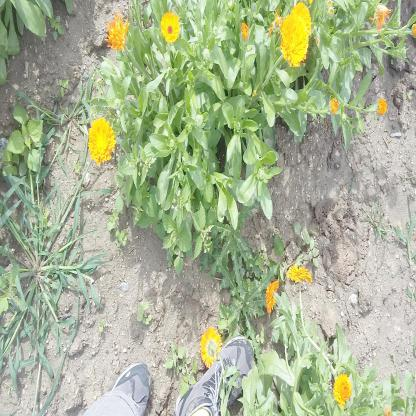marigold: (282, 15, 307, 64), (89, 119, 113, 161), (107, 12, 127, 47), (334, 374, 351, 406), (288, 263, 311, 286), (162, 12, 180, 41)
